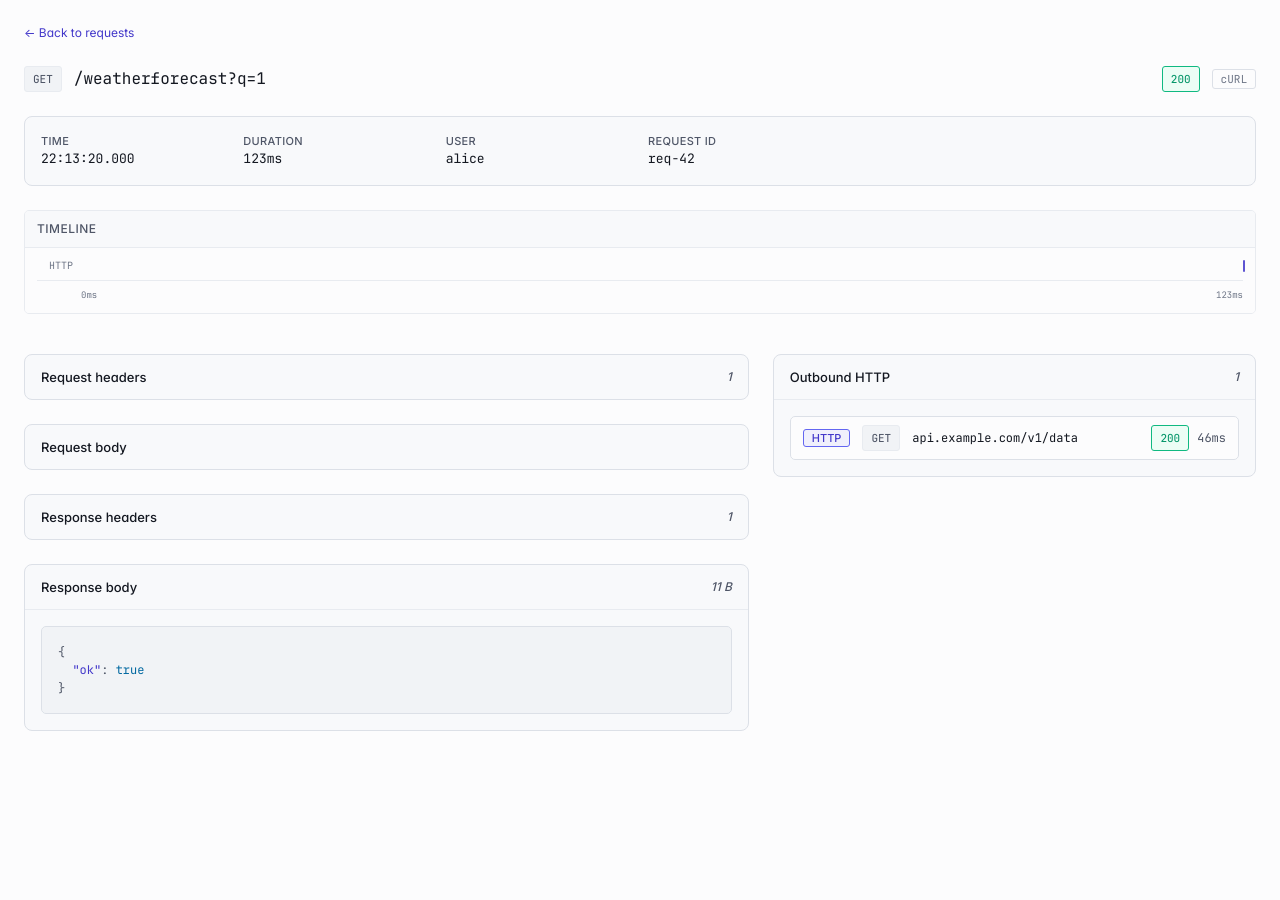
RequestDetail — Outbound HTTP section › toggles expanded body when row header is clicked
The width and height of the screenshot is (1280, 900).
Click the button "HTTP GET api.example.com/v1/data 200 46ms": (1014, 438) x1=791 y1=417 x2=1238 y2=459
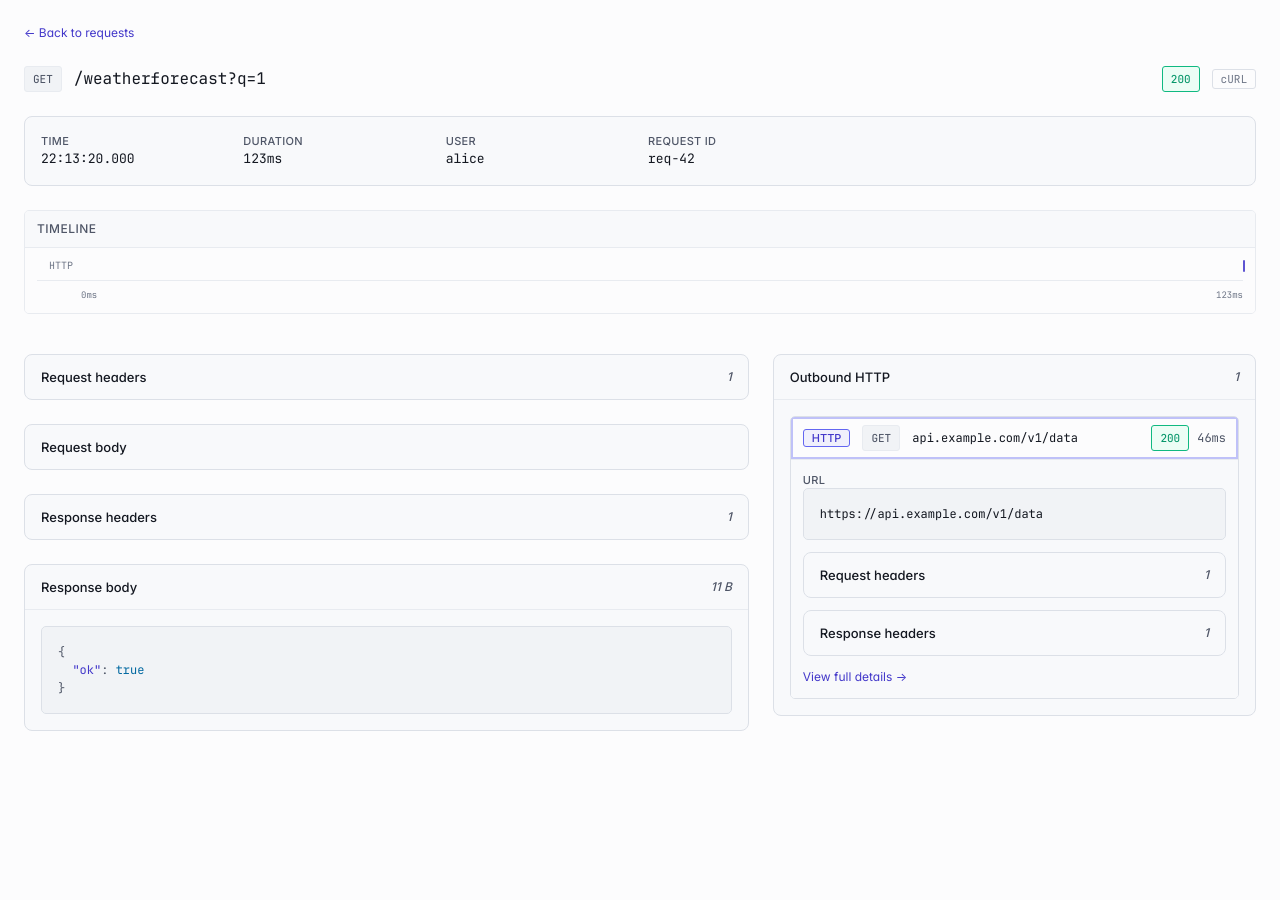
Result: the element with test id "http-out-row-body" is shown at x1=791 y1=459 x2=1238 y2=698
Result: the element with test id "http-out-row-body" shows "https://api.example.com/v1/data" at x1=820 y1=506 x2=1043 y2=522
